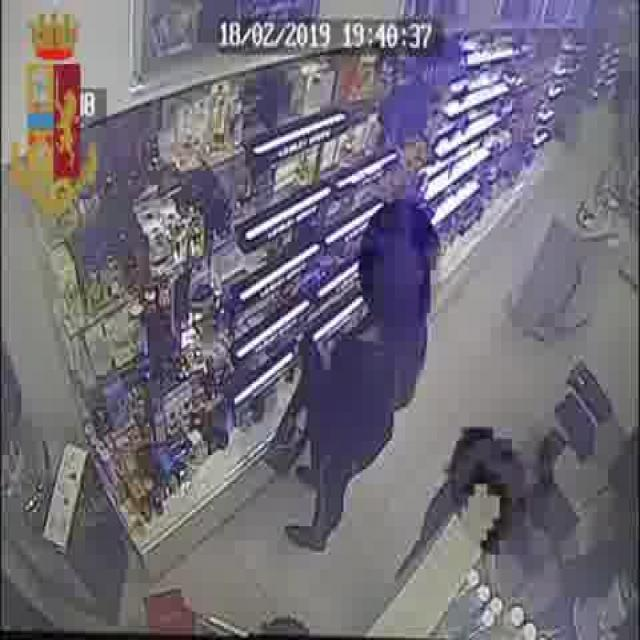Shoplifting: (266, 184, 452, 568)
